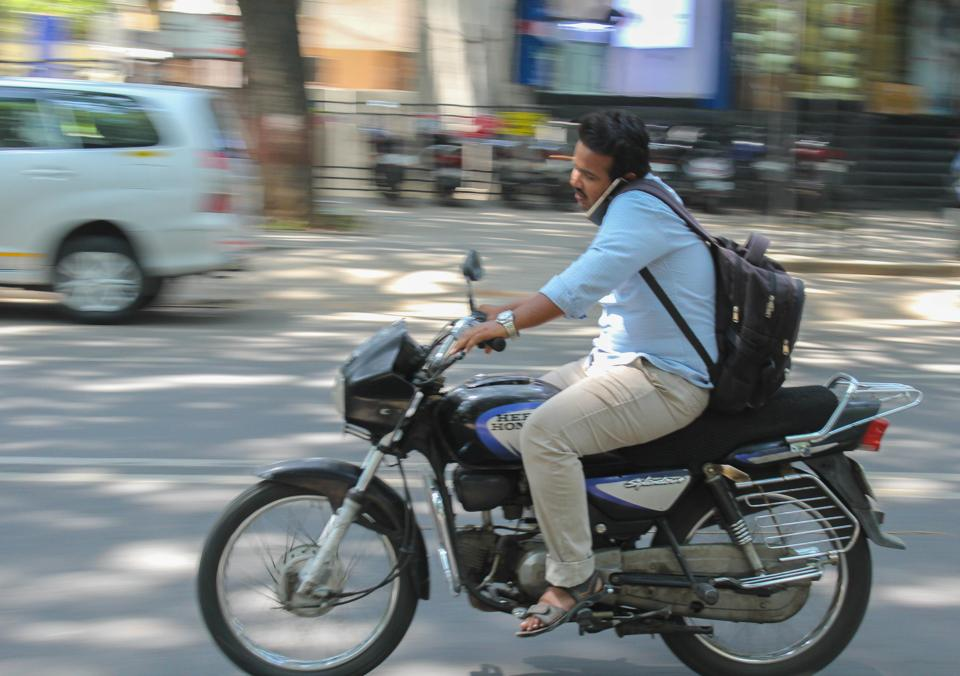Bike: (188, 327, 938, 676)
